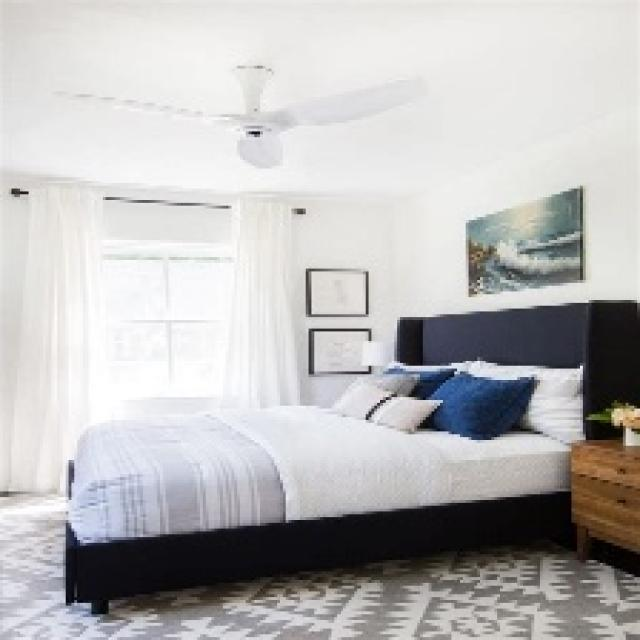Bed: (63, 297, 637, 614)
